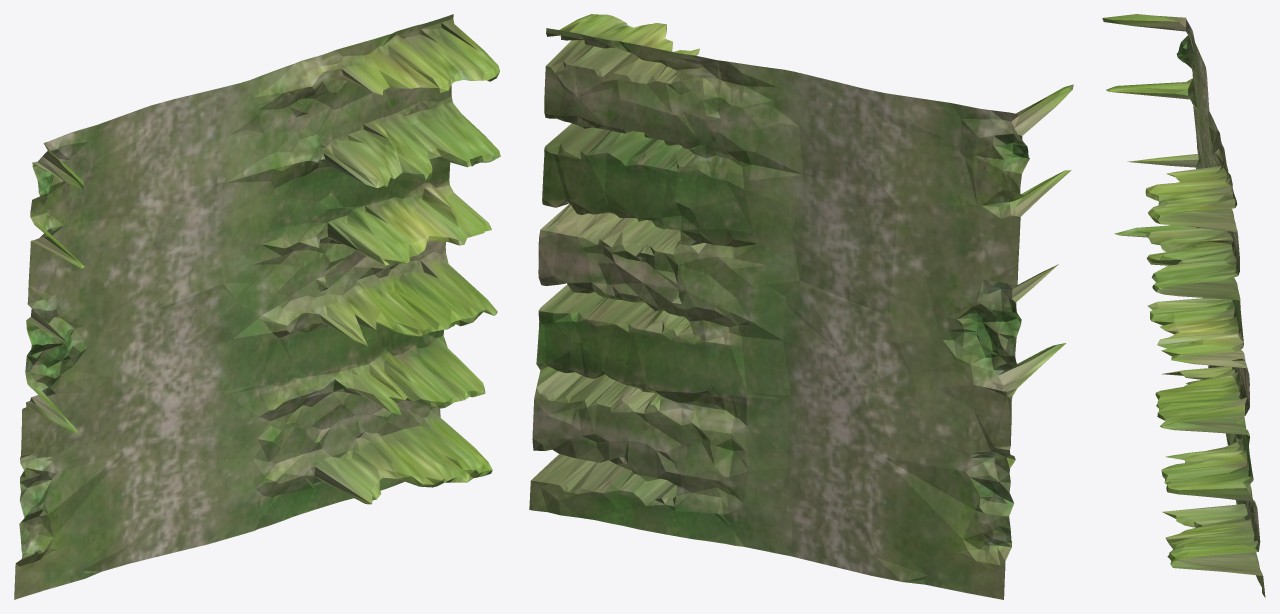
File: map_30_10.obj
3 views of the same model, side by side, from view 1: azimuth 30°, elevation 25°; view 2: azimuth 150°, elevation 25°; view 3: azimuth 270°, elevation 25° (orthographic). The views are drawn at different scales.
Parts seen in each view (by area): view 1: grp1; view 2: grp1; view 3: grp1.
Part boxes in pixels (box(x1,y1,x2,y2)): grp1: box(14, 14, 500, 599); grp1: box(529, 14, 1073, 599); grp1: box(1102, 14, 1265, 597).
Size of the model in its own units: 10 by 10 by 3.71.
1 material, 1 textured.
